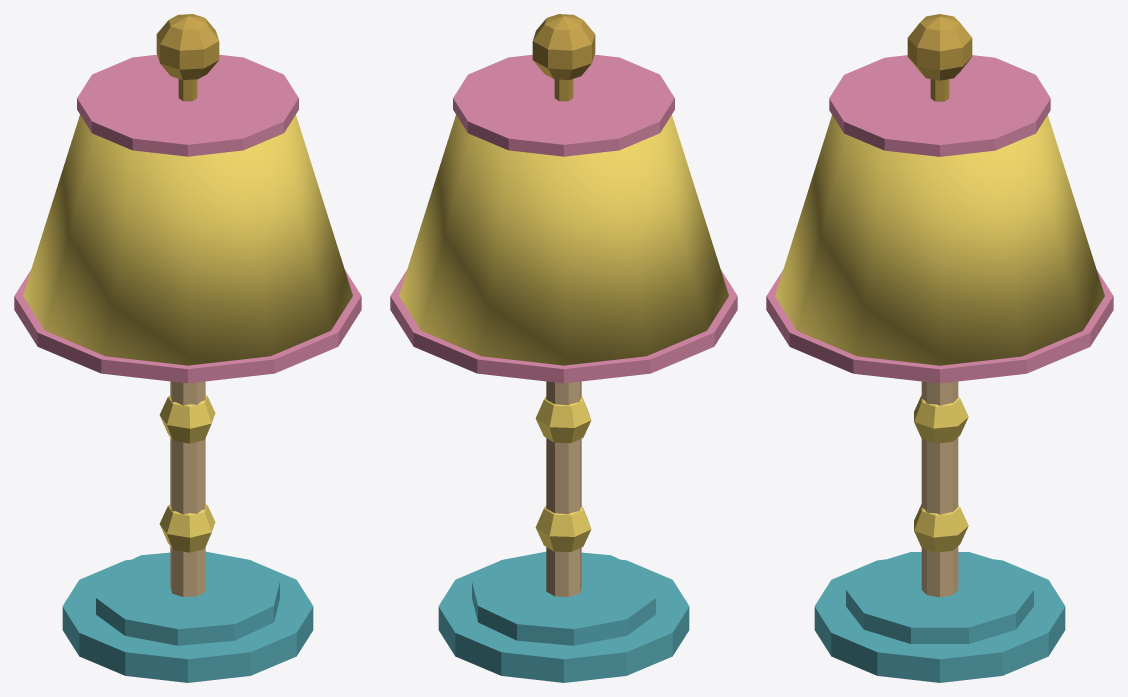
Rendered from lampara_velador.glb.
3 renders of one model, left to right at view 1: azimuth 30°, elevation 25°; view 2: azimuth 150°, elevation 25°; view 3: azimuth 270°, elevation 25°, orthographic.
Parts seen in each view (by area): view 1: lampara_velador; view 2: lampara_velador; view 3: lampara_velador.
Boxes of the visible parts, x1,y1,x2,y2 form: lampara_velador: (14,14,361,682); lampara_velador: (390,14,737,682); lampara_velador: (766,14,1113,682).
Bounding box in the file's own units: 0.664 × 1.3 × 0.664.
